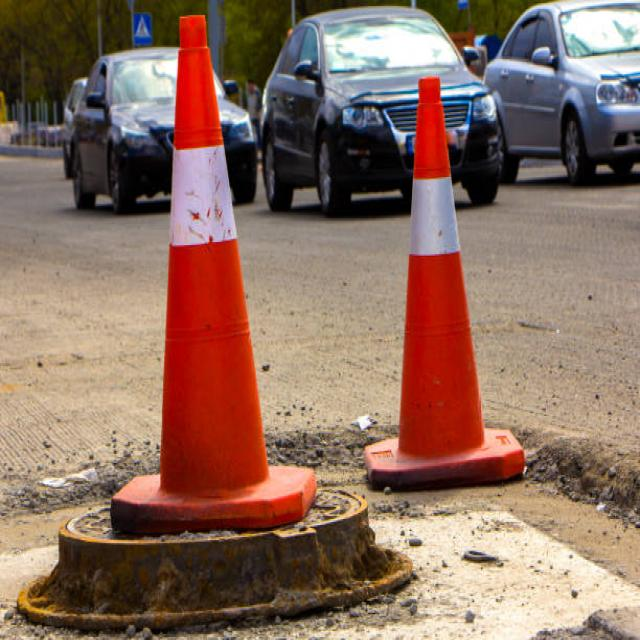Traffic Cone: (94, 0, 330, 539), (350, 51, 538, 499)
